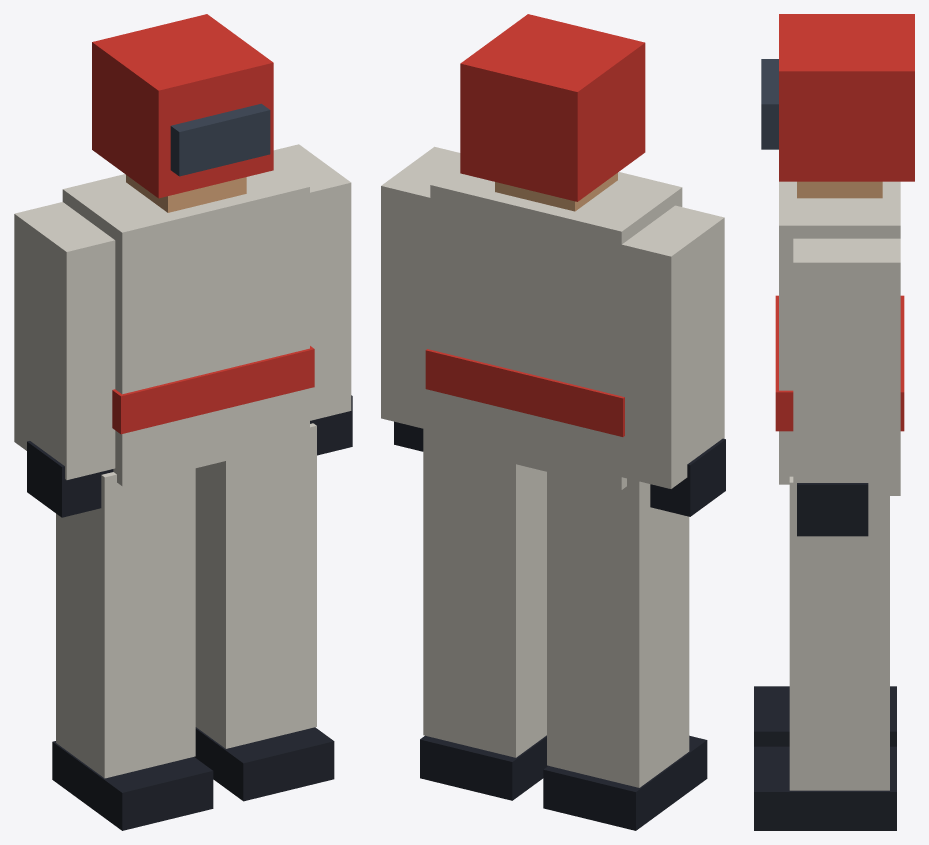
File: pitCrew.glb
3 views of the same model, side by side, from view 1: azimuth 30°, elevation 25°; view 2: azimuth 150°, elevation 25°; view 3: azimuth 270°, elevation 25° (orthographic). The views are drawn at different scales.
Parts seen in each view (by area): view 1: pitCrew_white, pitCrew_red, pitCrew_black, pitCrew_steelDark, pitCrew_skin; view 2: pitCrew_white, pitCrew_red, pitCrew_black, pitCrew_skin; view 3: pitCrew_white, pitCrew_red, pitCrew_black, pitCrew_steelDark, pitCrew_skin.
Part boxes in pixels (<box>): pitCrew_white: <box>14,144,351,778</box>; pitCrew_red: <box>92,14,314,434</box>; pitCrew_black: <box>27,395,352,830</box>; pitCrew_steelDark: <box>170,103,270,176</box>; pitCrew_skin: <box>126,175,246,212</box>; pitCrew_white: <box>381,146,724,787</box>; pitCrew_red: <box>425,14,645,436</box>; pitCrew_black: <box>394,421,725,830</box>; pitCrew_skin: <box>495,173,617,211</box>; pitCrew_white: <box>779,181,900,790</box>; pitCrew_red: <box>775,14,914,431</box>; pitCrew_black: <box>754,483,896,830</box>; pitCrew_steelDark: <box>761,59,778,149</box>; pitCrew_skin: <box>797,181,882,198</box>.
Bounding box in the file's own units: 0.96 × 2.27 × 0.45.
